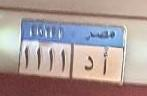1: (31, 44, 47, 72), (56, 44, 70, 74), (43, 42, 55, 73), (22, 41, 32, 71)
أ: (97, 52, 112, 76)
د: (80, 54, 97, 73)
